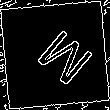M_SW: (21, 21, 89, 89)
